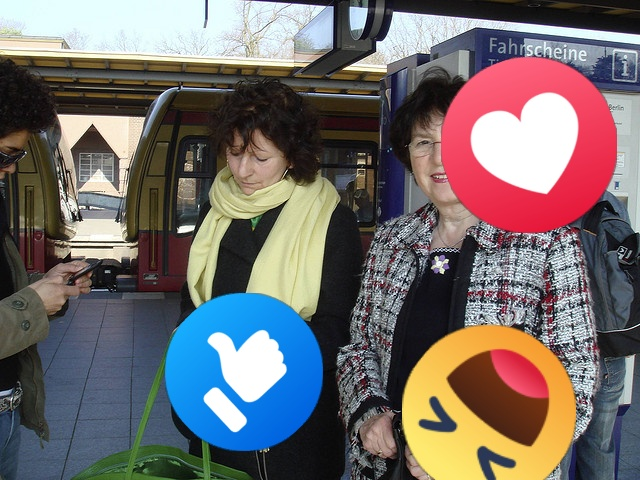haha: (402, 325, 576, 480)
like: (165, 293, 323, 451)
love: (441, 57, 617, 233)
